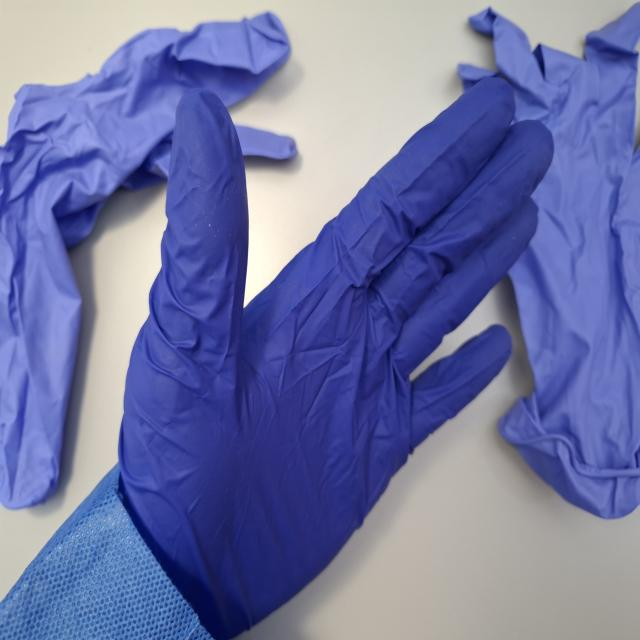glove_on: (114, 70, 558, 640)
